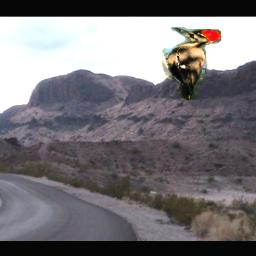Woodpecker: (161, 28, 222, 101)
